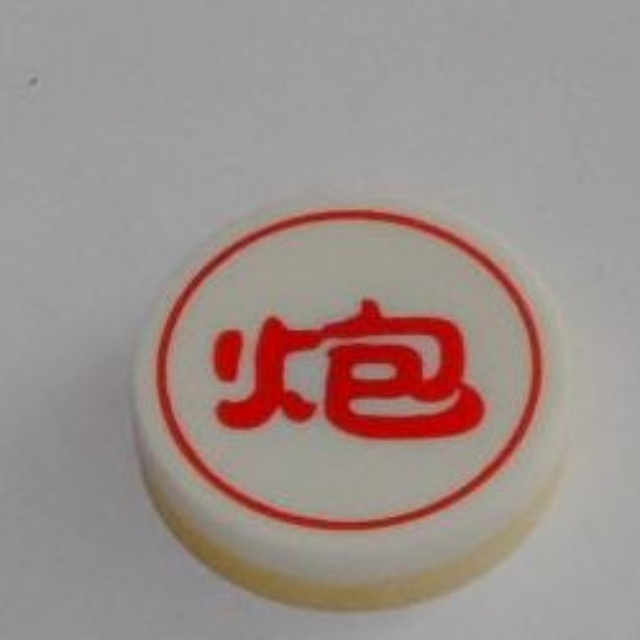red_phao: (119, 188, 588, 619)
